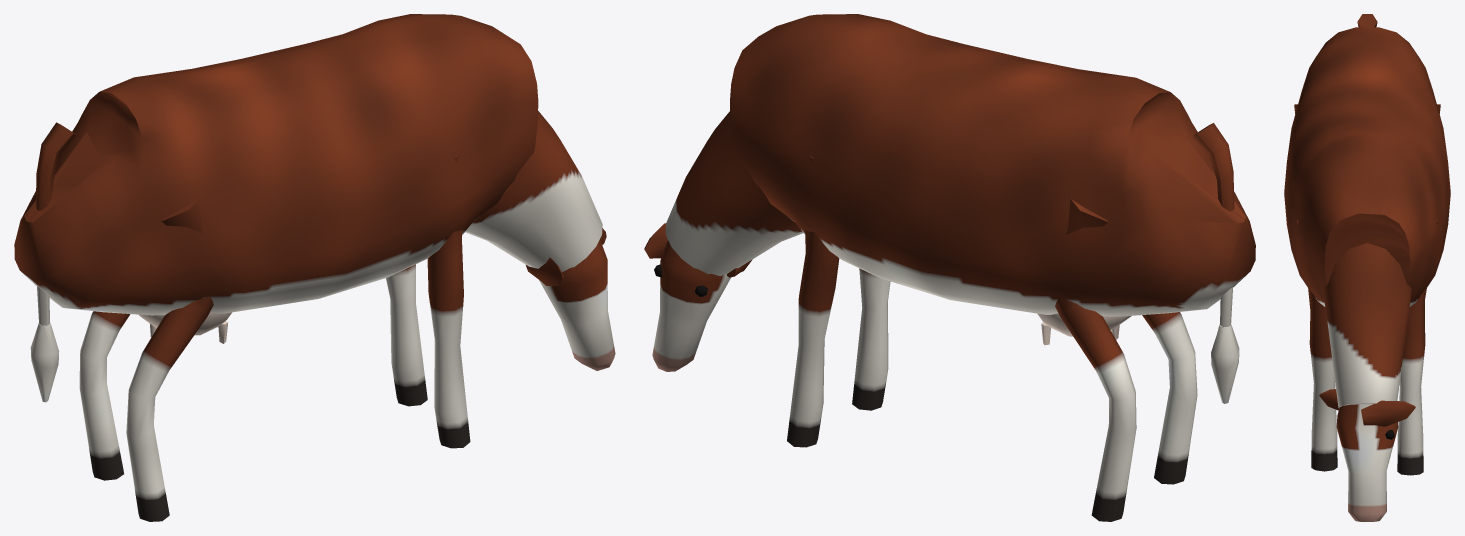
Rendered from tpl_life_herd_2021_cattle_mrij_graze.glb.
The picture shows the model from 3 angles, left to right: view 1: azimuth 30°, elevation 25°; view 2: azimuth 150°, elevation 25°; view 3: azimuth 270°, elevation 25°; orthographic projection. The views are drawn at different scales.
Visible parts, largest first — view 1: tpl_life_herd_2021_cattle_mrij_graze; view 2: tpl_life_herd_2021_cattle_mrij_graze; view 3: tpl_life_herd_2021_cattle_mrij_graze.
Boxes of the visible parts, box(x1,y1,x2,y2) form: tpl_life_herd_2021_cattle_mrij_graze: box(14, 14, 615, 521); tpl_life_herd_2021_cattle_mrij_graze: box(644, 14, 1255, 521); tpl_life_herd_2021_cattle_mrij_graze: box(1284, 14, 1450, 521).
Size of the model in its own units: 2.13 by 1.41 by 0.6588.
Materials: 2 (1 with a texture image).
